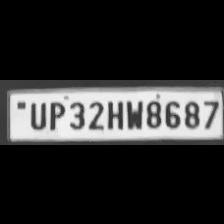2: (85, 96, 105, 130)
3: (65, 97, 85, 129)
6: (162, 96, 180, 128)
7: (200, 97, 220, 129)
8: (142, 97, 162, 129), (180, 97, 200, 129)
H: (104, 96, 122, 130)
P: (46, 98, 64, 130)
U: (26, 97, 46, 128)
W: (124, 96, 142, 130)
